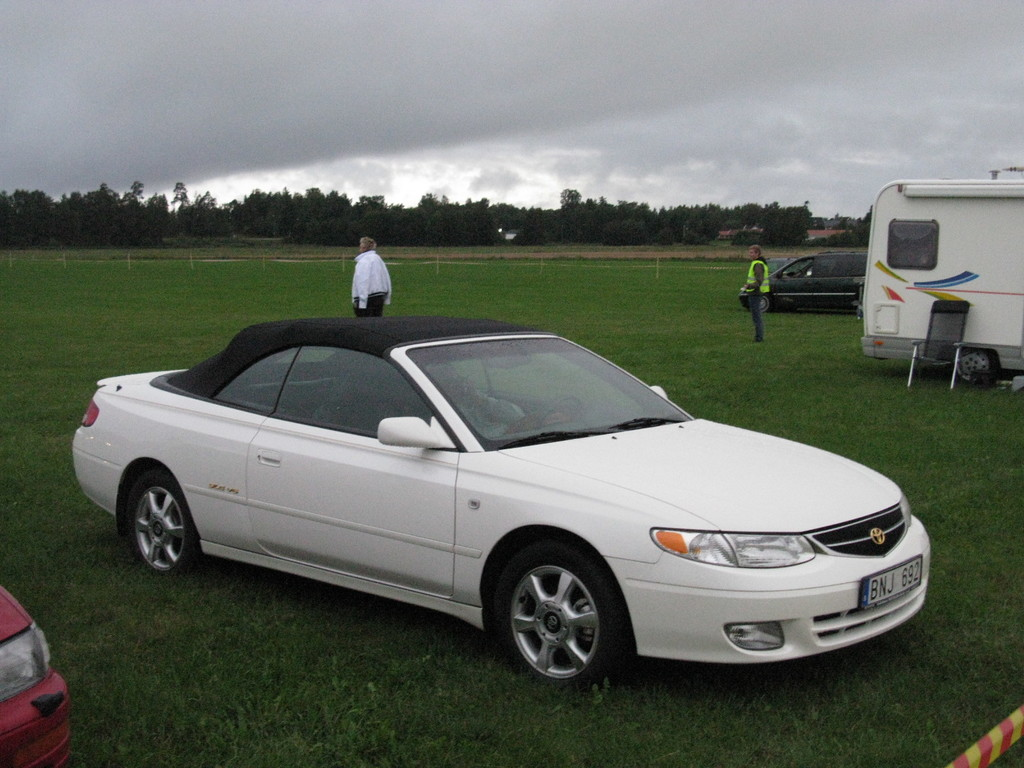Car: (70, 309, 931, 686), (0, 584, 70, 767), (741, 251, 865, 311), (766, 255, 798, 275)
